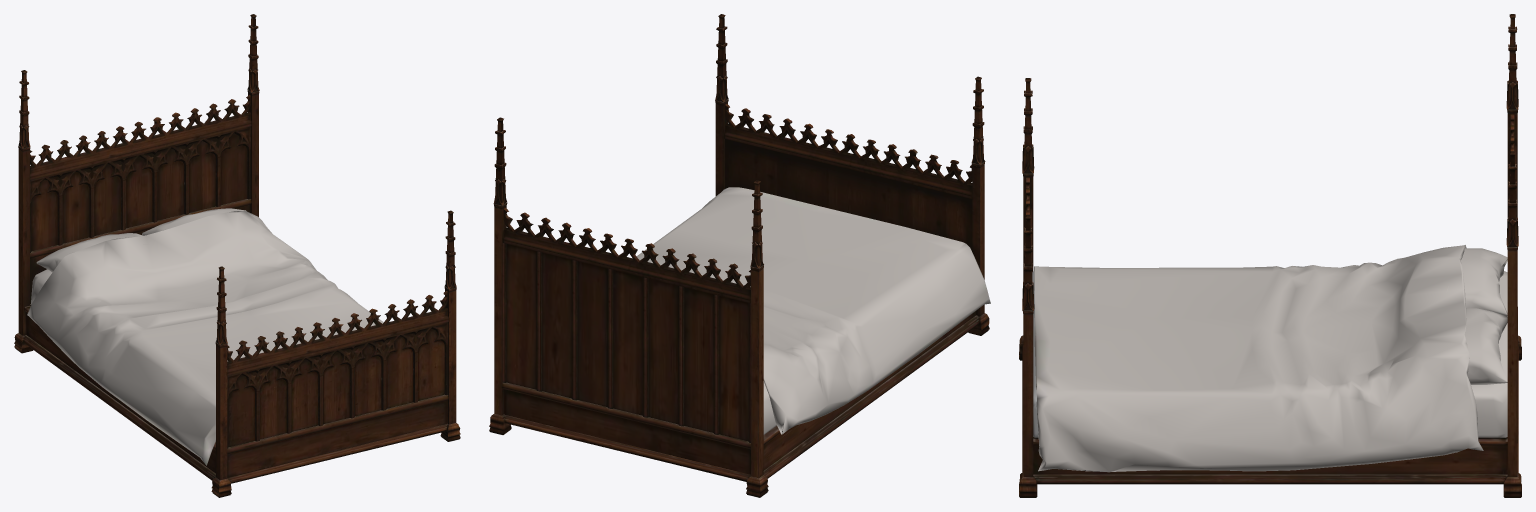
The model's file is GothicBed_01.glb.
The picture shows the model from 3 angles, left to right: view 1: azimuth 30°, elevation 25°; view 2: azimuth 150°, elevation 25°; view 3: azimuth 270°, elevation 25°; orthographic projection. The views are drawn at different scales.
Parts seen in each view (by area): view 1: GothicBed_01; view 2: GothicBed_01; view 3: GothicBed_01.
Boxes of the visible parts, box(x1,y1,x2,y2) form: GothicBed_01: box(14, 14, 460, 497); GothicBed_01: box(489, 14, 990, 497); GothicBed_01: box(1019, 14, 1521, 497).
Size of the model in its own units: 1.49 by 1.53 by 2.04.
1 material, 1 textured.
